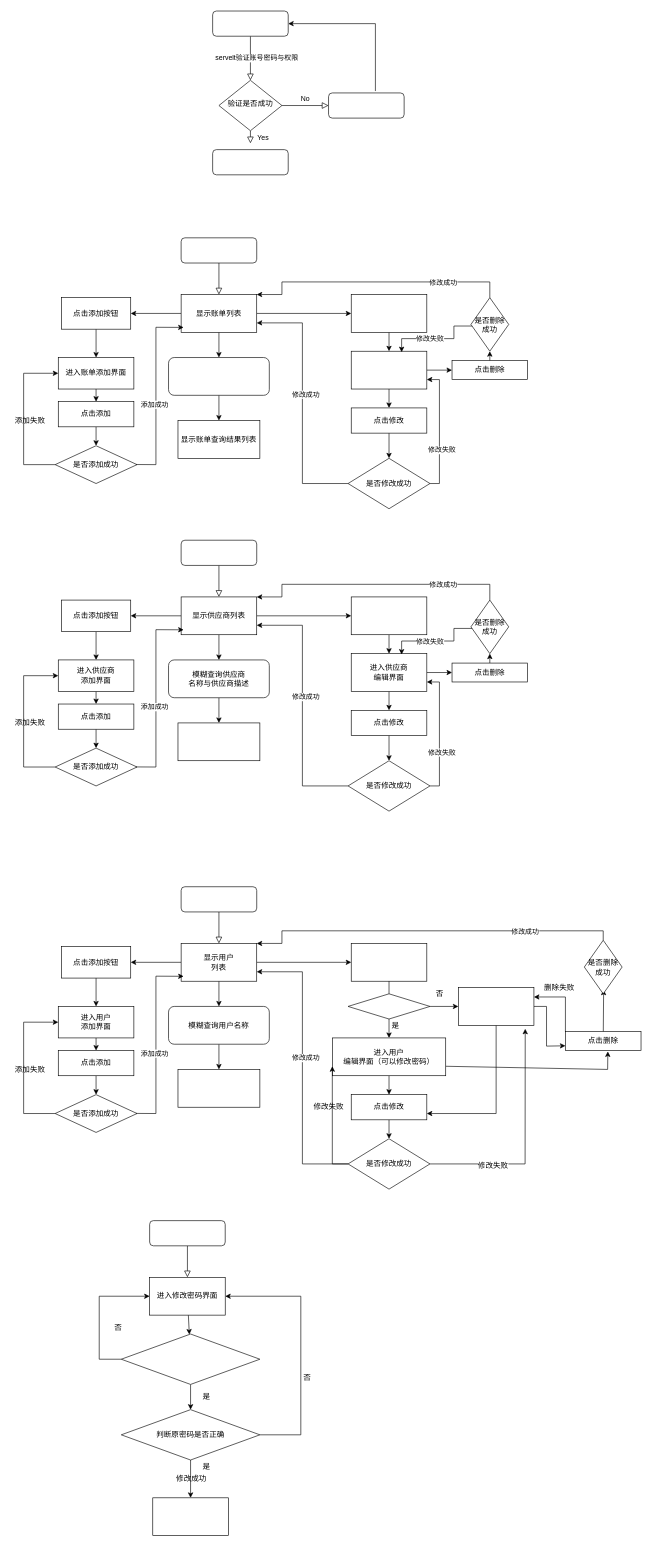
The diagram is 652 pixels wide and 1547 high, and some of its shapes have lost their labels. The shapes that lost their labels are listed below. From the top down, each one's centre as x and y in pixels, then its label:
At [250,23]: "登录".
At [366,105]: "返回登录页面".
At [250,162]: "进入欢迎界面".
At [218,250]: "点击账单管理系统".
At [389,313]: "点击账单编号".
At [218,376]: "模糊查询商品名称与是否付款".
At [389,370]: "进入账单编辑界面".
At [218,552]: "点击供应商管理".
At [389,615]: "点击供应商 编号".
At [218,741]: "显示供应商 查询结果列表".
At [218,899]: "点击用户管理".
At [389,962]: "点击用户姓名".
At [388,1006]: "判断是否是管理员".
At [496,1006]: "进入管理员编辑界面（不可修改密码）".
At [218,1088]: "显示用户 查询结果列表".
At [187,1233]: "点击用户修改密码".
At [190,1358]: "判断输入的两次密码是否正确".
At [190,1516]: "跳转到欢迎界面".
